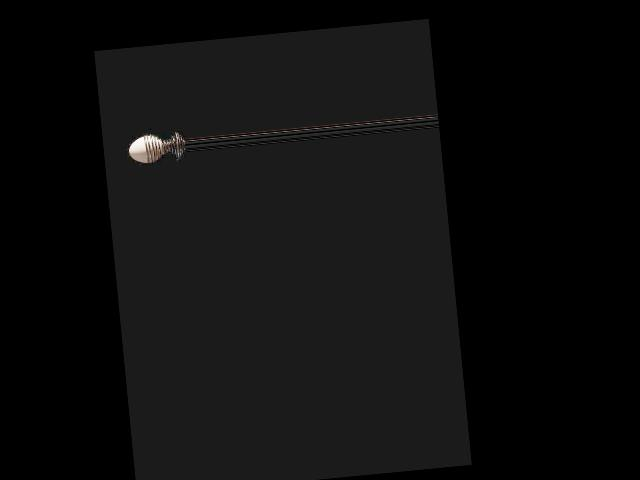egg: (127, 134, 164, 164)
